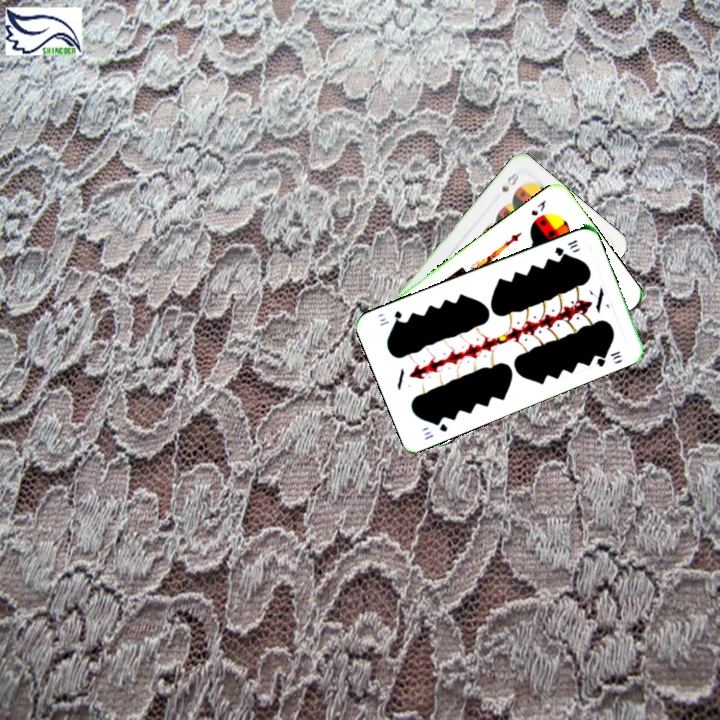G10: (420, 416, 450, 442), (551, 235, 581, 259)
S8: (497, 168, 521, 195)
SK: (527, 196, 549, 219)
